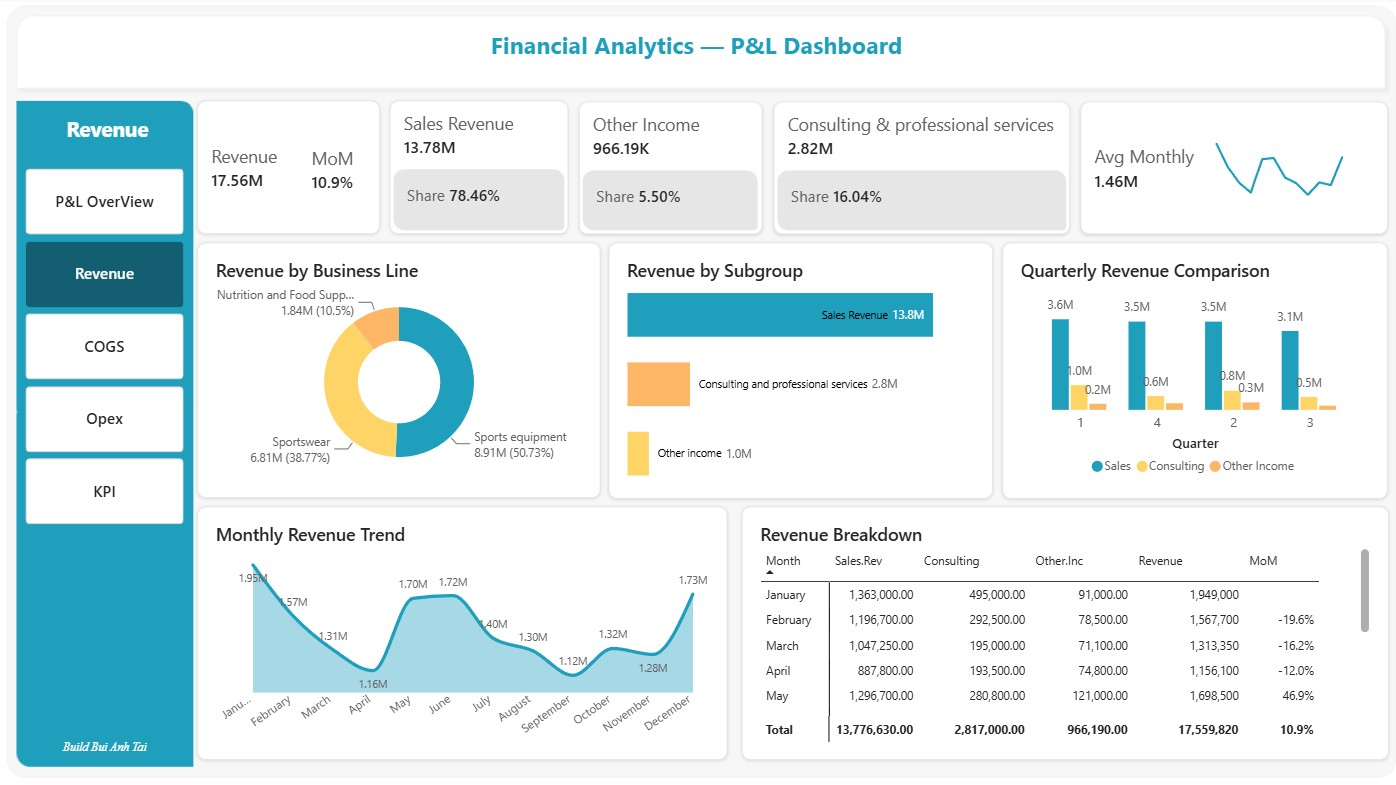

This screenshot's page, from the dashboard's own definition file:
{"tool":"powerbi","page":{"name":"Revenue","canvas":[1280,720],"ordinal":1},"visuals":[{"type":"lineChart","title":"Monthly Revenue Trend","fields":{"Category":["Calendar.Month in text"],"Y":["_M.M_Revenue"]},"box":[181.2,463.8,482.5,231.2],"z":0},{"type":"cardVisual","title":"GrossProfit","fields":{"Data":["_M.M_Revenue"]},"box":[181,94,166,122],"z":1000},{"type":"cardVisual","title":"GrossProfit","fields":{"Data":["_M.M_Sales_Revenue"]},"box":[356.5,94,163,122],"z":2000},{"type":"cardVisual","title":"GrossProfit","fields":{"Data":["_M.M_Avg_Monthly_Revenue"]},"box":[985,95,280,121],"z":3000},{"type":"cardVisual","title":"GrossProfit","fields":{"Data":["_M.M_Consulting_Revenue"]},"box":[706,95,270,121],"z":4000},{"type":"cardVisual","title":"GrossProfit","fields":{"Data":["_M.M_Other_Income"]},"box":[529,95,167,121],"z":5000},{"type":"donutChart","title":"Revenue by Business Line","fields":{"Category":["Business Line.Business Line"],"Y":["_M.M_Revenue"]},"box":[181,223.2,367,233],"z":6000},{"type":"textbox","box":[448.5,29.2,383,40.3],"z":7000},{"type":"textbox","box":[31.2,106.8,137.1,34.3],"z":8000},{"type":"lineChart","fields":{"Category":["Calendar.Month"],"Y":["_M.M_Avg_Monthly_Revenue"]},"box":[1072,108,208,96],"z":9000},{"type":"barChart","title":"Revenue by Subgroup","fields":{"Category":["Subgroup.Subgroup"],"Y":["_M.M_Revenue"]},"box":[555.6,223.3,350,233.3],"z":10000},{"type":"clusteredColumnChart","title":"Quarterly Revenue Comparison","fields":{"Category":["Calendar.Quarter"],"Y":["_M.M_Sales_Revenue","_M.M_Consulting_Revenue","_M.M_Other_Income"]},"box":[914.4,223.3,351.1,233.3],"z":11000},{"type":"pivotTable","title":"Revenue Breakdown","fields":{"Rows":["Calendar.Date.Variation.Date Hierarchy.Year","Calendar.Date.Variation.Date Hierarchy.Quarter","Calendar.Date.Variation.Date Hierarchy.Month","Calendar.Date.Variation.Date Hierarchy.Day"],"Values":["_M.M_Sales_Revenue","_M.M_Consulting_Revenue","_M.M_Other_Income","_M.M_Revenue","_M MoM.M_Revenue_MoM"]},"box":[676.2,463.8,588.8,231.2],"z":12000},{"type":"pageNavigator","box":[24.7,156,144,328.7],"z":13000},{"type":"cardVisual","title":"GrossProfit","fields":{"Data":["_M MoM.M_Revenue_MoM"]},"box":[273,117,74,78],"z":14000},{"type":"textbox","box":[22,675,150,25],"z":15000}]}

Visuals, with their boxes in screenshot pixels (x1, y1, x2, y2), scaled from the page's 1280x720 canvas onto the 1396x785 screenshot:
"Monthly Revenue Trend" lineChart: box=[198, 506, 724, 758]
"GrossProfit" cardVisual: box=[197, 102, 378, 235]
"GrossProfit" cardVisual: box=[389, 102, 567, 235]
"GrossProfit" cardVisual: box=[1074, 104, 1380, 235]
"GrossProfit" cardVisual: box=[770, 104, 1064, 235]
"GrossProfit" cardVisual: box=[577, 104, 759, 235]
"Revenue by Business Line" donutChart: box=[197, 243, 598, 497]
textbox: box=[489, 32, 907, 76]
textbox: box=[34, 116, 184, 154]
lineChart - Calendar.Month x _M.M_Avg_Monthly_Revenue: box=[1169, 118, 1395, 222]
"Revenue by Subgroup" barChart: box=[606, 243, 988, 498]
"Quarterly Revenue Comparison" clusteredColumnChart: box=[997, 243, 1380, 498]
"Revenue Breakdown" pivotTable: box=[737, 506, 1380, 758]
pageNavigator: box=[27, 170, 184, 528]
"GrossProfit" cardVisual: box=[298, 128, 378, 213]
textbox: box=[24, 736, 188, 763]
